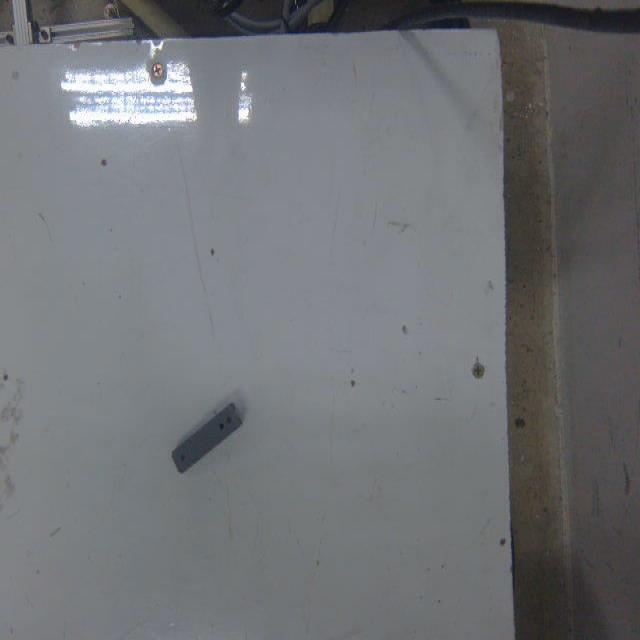grey: (172, 400, 244, 474)
head: (178, 452, 188, 462)
